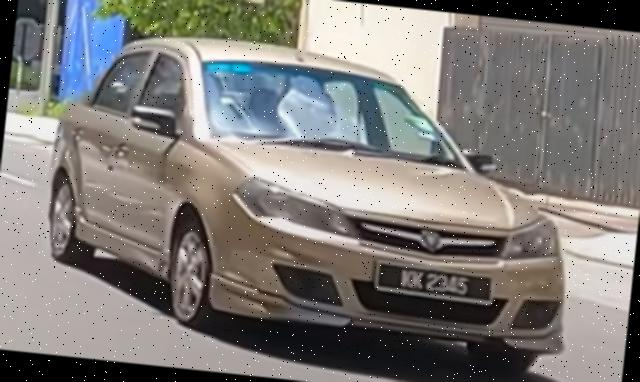License_Plate: (371, 260, 497, 307)
car: (34, 21, 595, 376)
